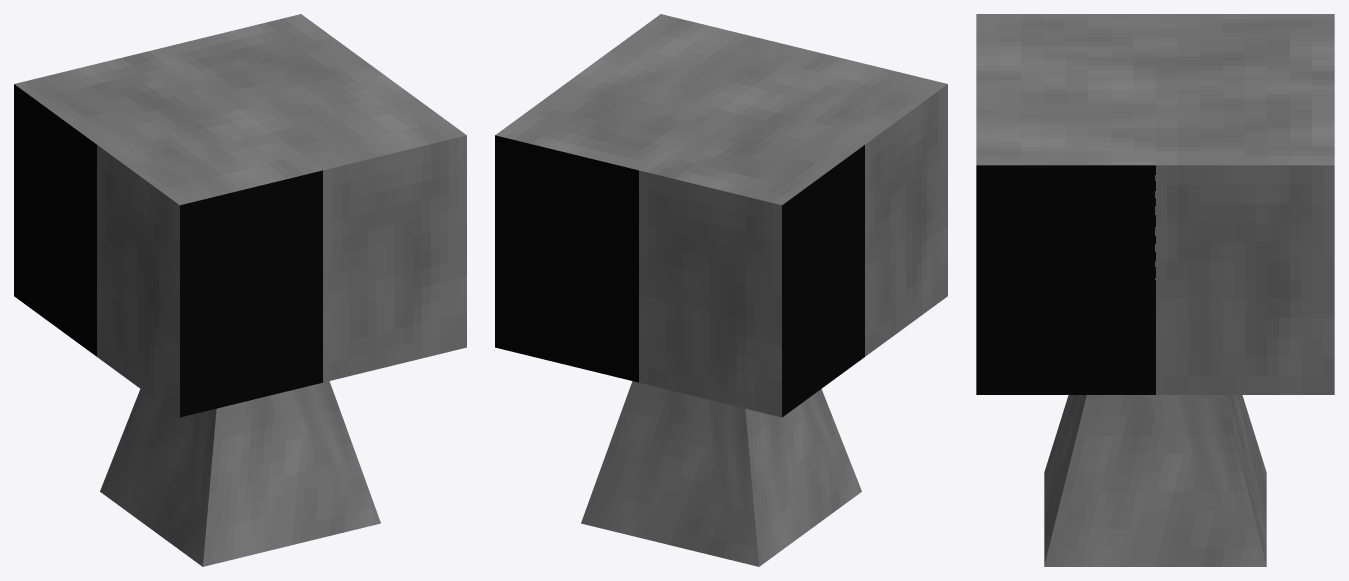
Rendered from golem_legs_floater.obj.
3 renders of one model, left to right at view 1: azimuth 30°, elevation 25°; view 2: azimuth 150°, elevation 25°; view 3: azimuth 270°, elevation 25°, orthographic. The views are drawn at different scales.
Parts seen in each view (by area): view 1: levitator, port; view 2: levitator, port; view 3: levitator, port.
Boxes of the visible parts, x1,y1,x2,y2 form: levitator: (14, 14, 466, 417); port: (100, 381, 380, 566); levitator: (495, 14, 947, 417); port: (581, 381, 861, 566); levitator: (976, 14, 1334, 394); port: (1044, 395, 1266, 566).
Size of the model in its own units: 0.2212 by 0.293 by 0.2212.
